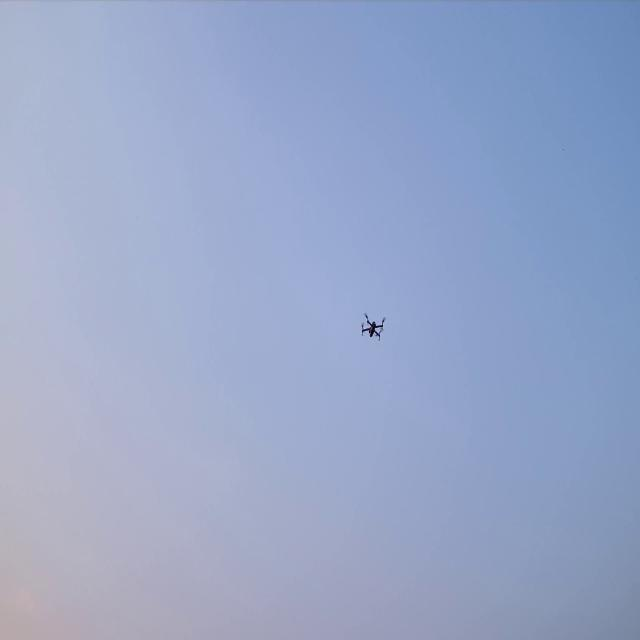UAV: (359, 310, 388, 343)
